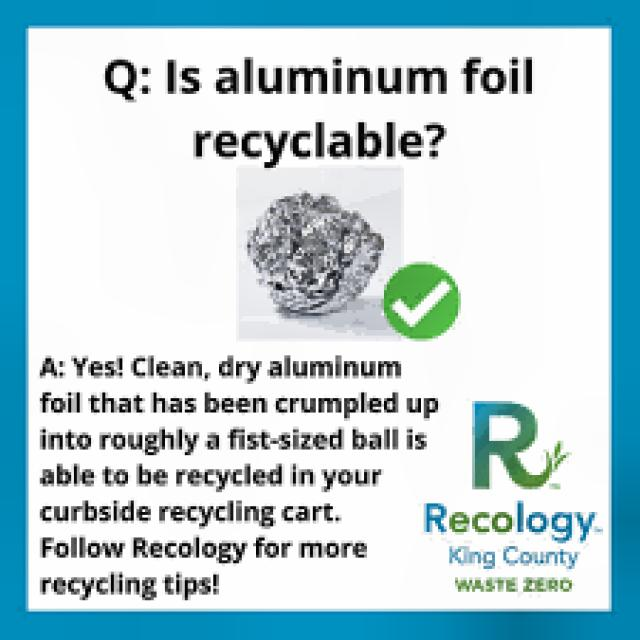Foil: (250, 184, 384, 333)
